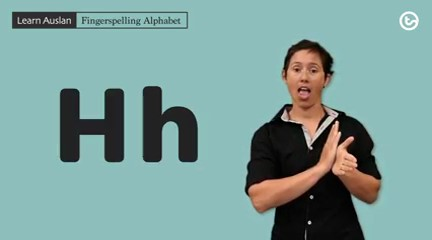H: (320, 117, 359, 192)
